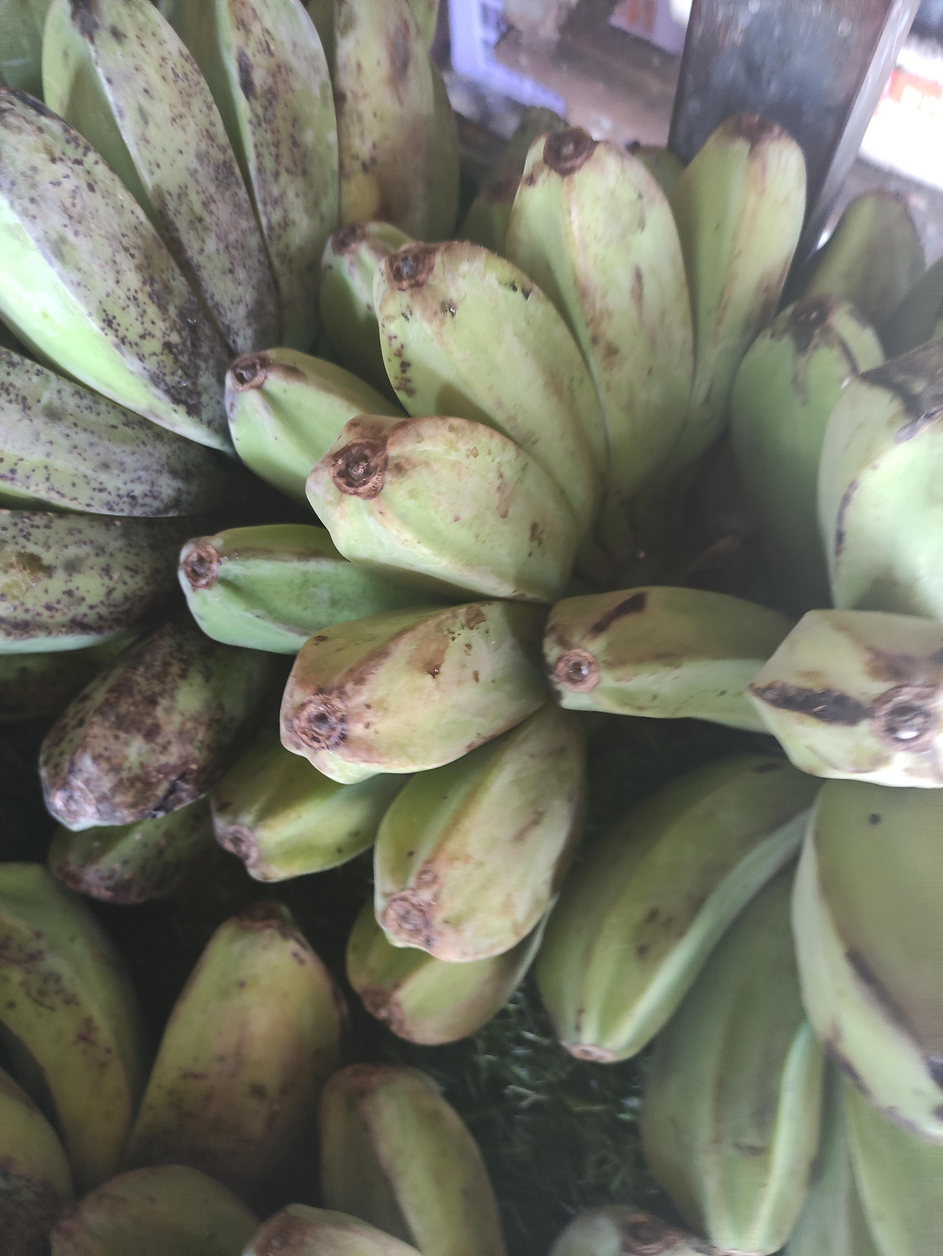underripe: (179, 115, 806, 1045), (0, 0, 458, 904), (538, 299, 943, 1256), (0, 863, 347, 1256), (51, 1066, 507, 1256)
